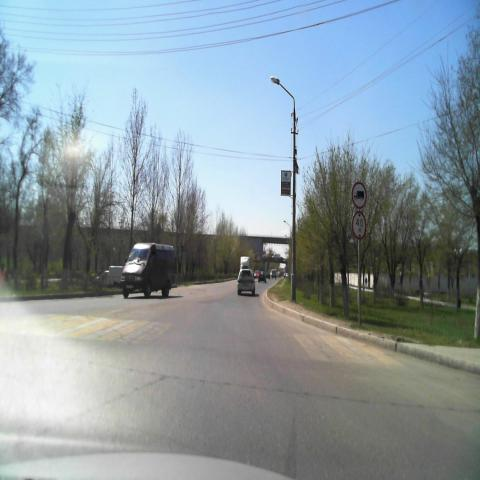3_4_1: (351, 181, 367, 210)
